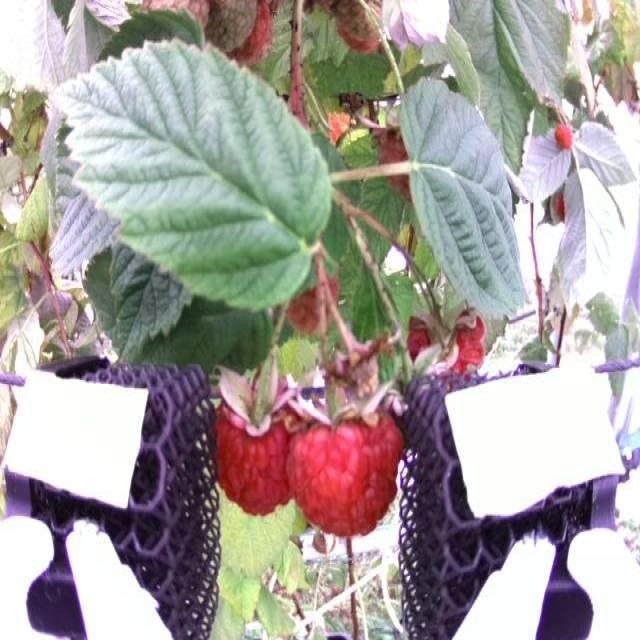Riped berries: (297, 371, 418, 537), (203, 356, 294, 512)
